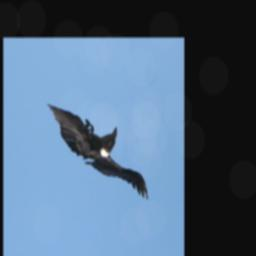Crow: (46, 104, 149, 202)
